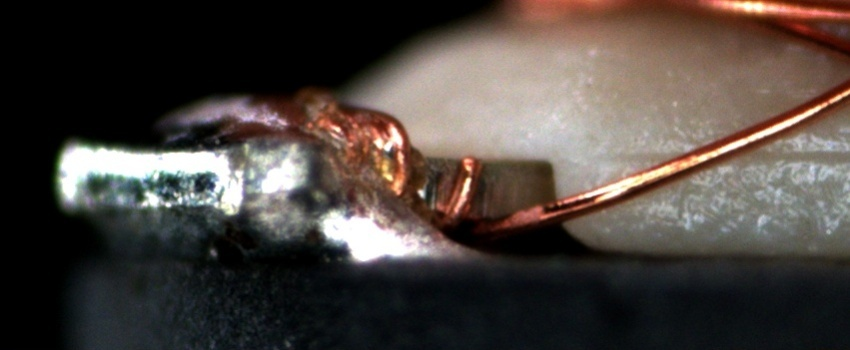DL: (597, 129, 849, 184)
TE: (302, 94, 493, 224)
